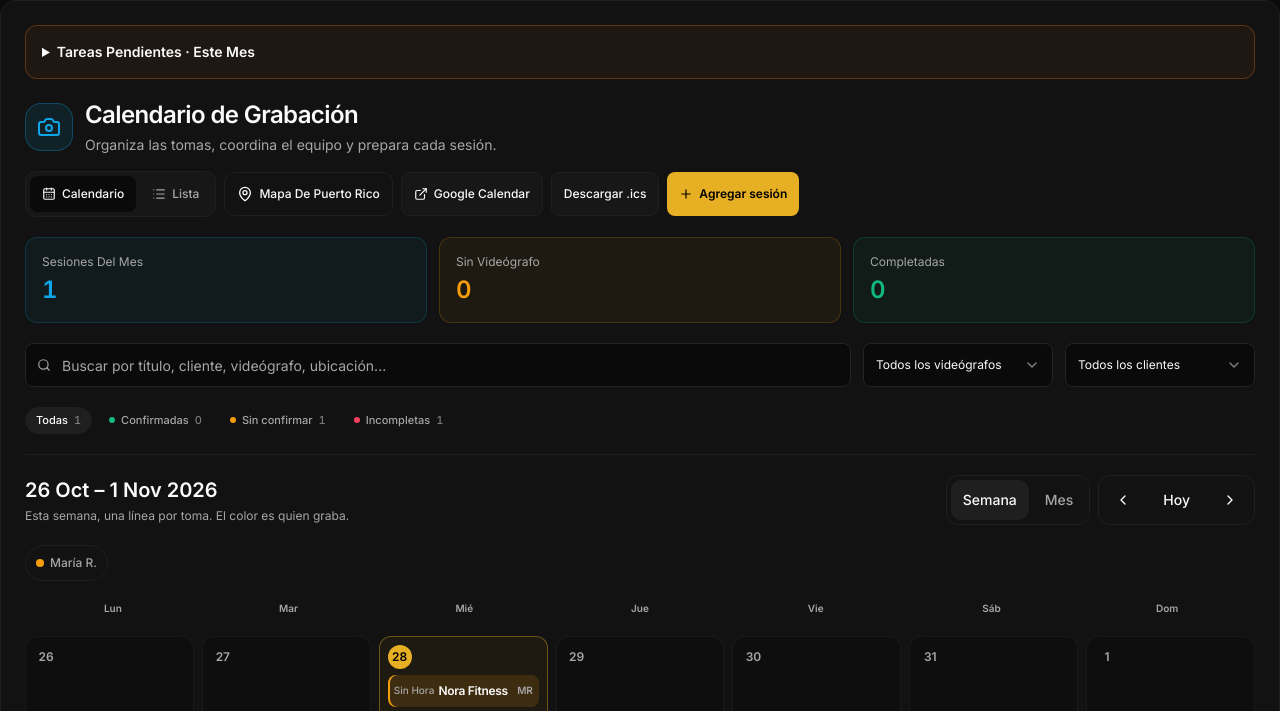
it: RecordingCalendarClient — premium redesign › toggles to the list view
This screenshot has width=1280, height=711.
Click the button "Lista": (176, 194) [140, 176, 211, 212]
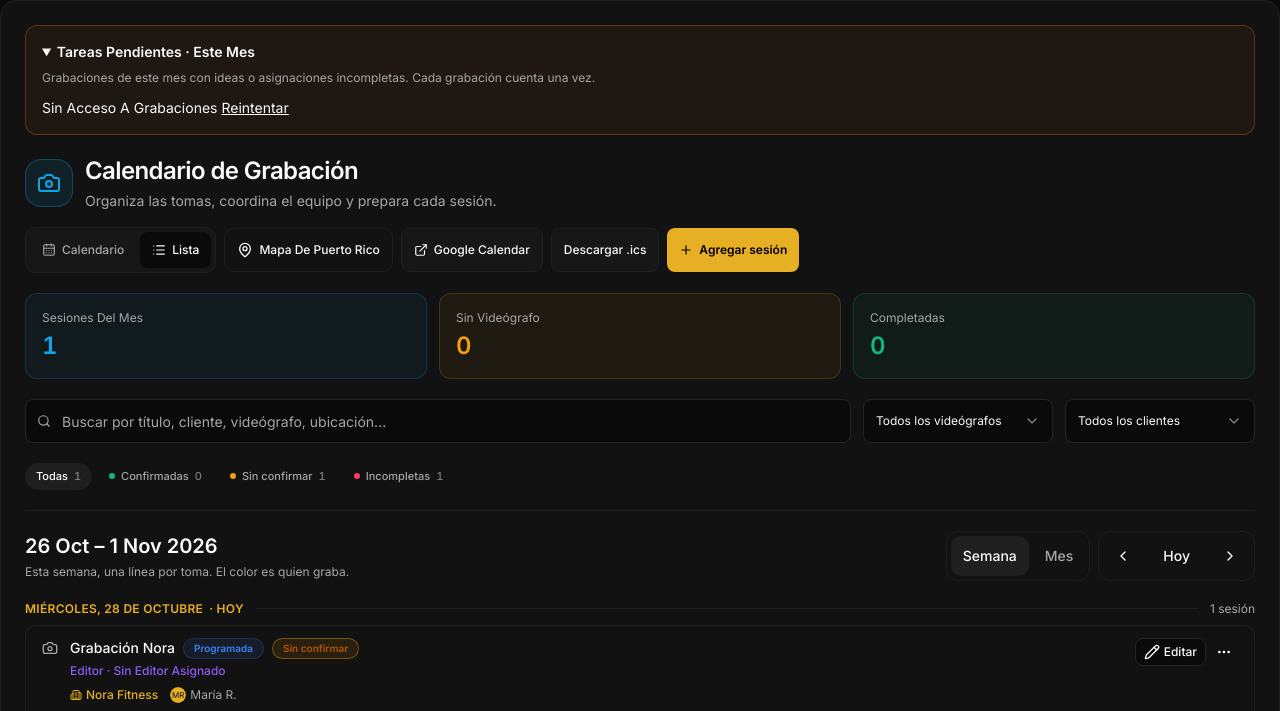
Check: the text "Grabación Nora" is shown, box [70, 638, 175, 658]
